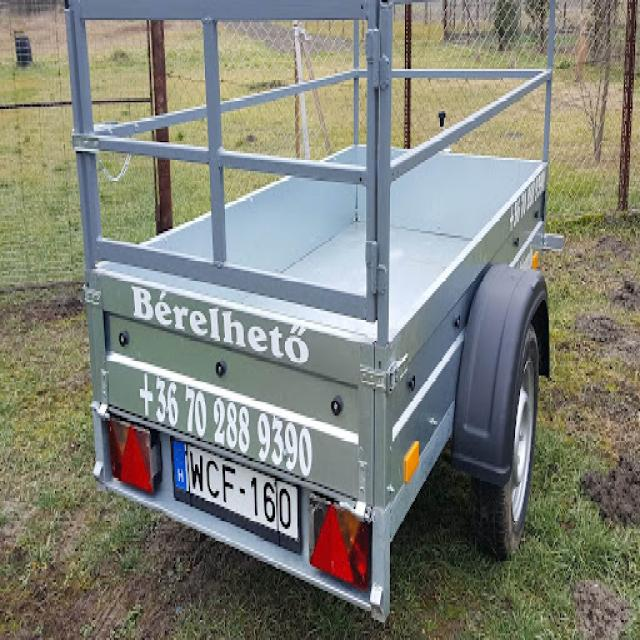trailer: (82, 142, 550, 622)
